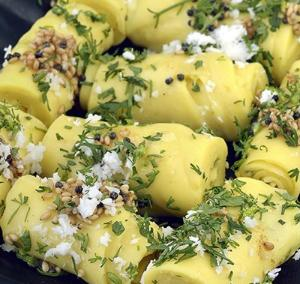khandvi: (5, 23, 300, 276)
